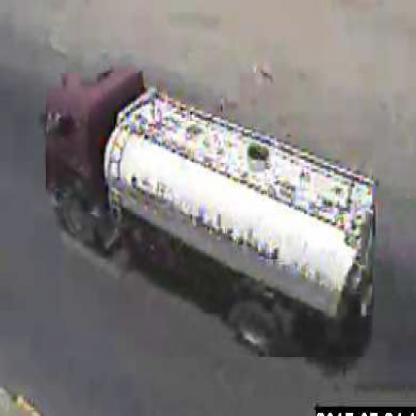truck: (47, 74, 374, 360)
